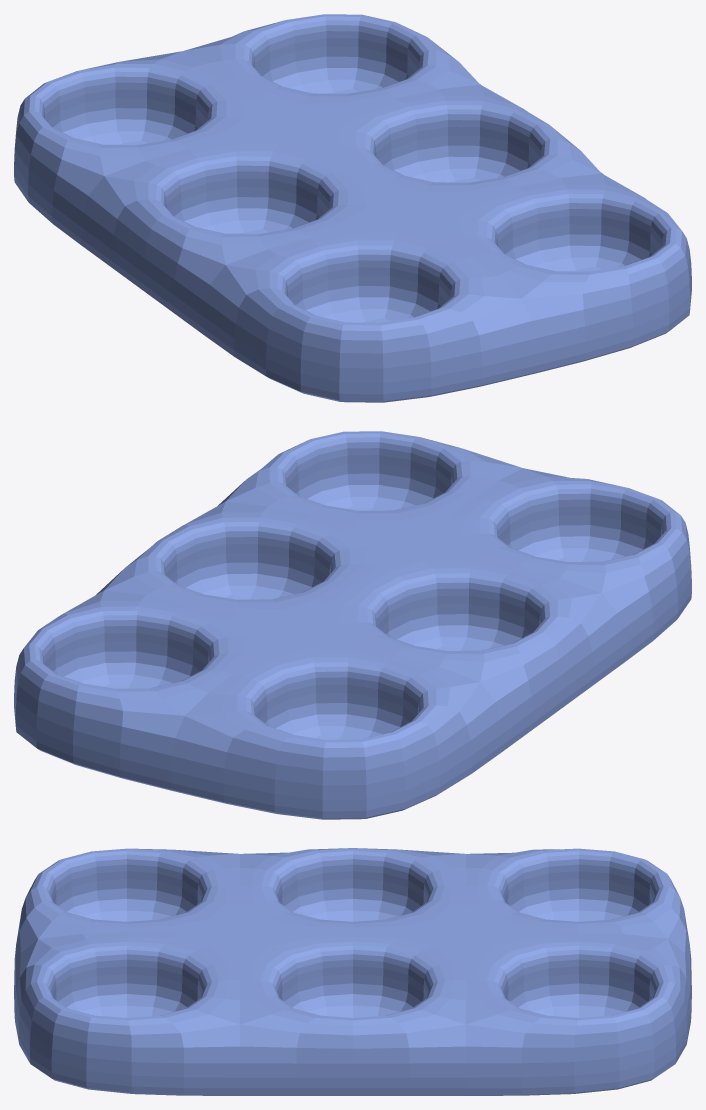
Rendered from YogurtBox_Dessert.fbx.
3 renders of one model, top to bottom at view 1: azimuth 30°, elevation 25°; view 2: azimuth 150°, elevation 25°; view 3: azimuth 270°, elevation 25°, orthographic. The views are drawn at different scales.
Parts seen in each view (by area): view 1: Cube; view 2: Cube; view 3: Cube.
Part boxes in pixels (x1,y1,x2,y2): Cube: (14, 14, 691, 402); Cube: (14, 431, 691, 819); Cube: (14, 848, 691, 1095).
Size of the model in its own units: 360 by 62.04 by 540.
